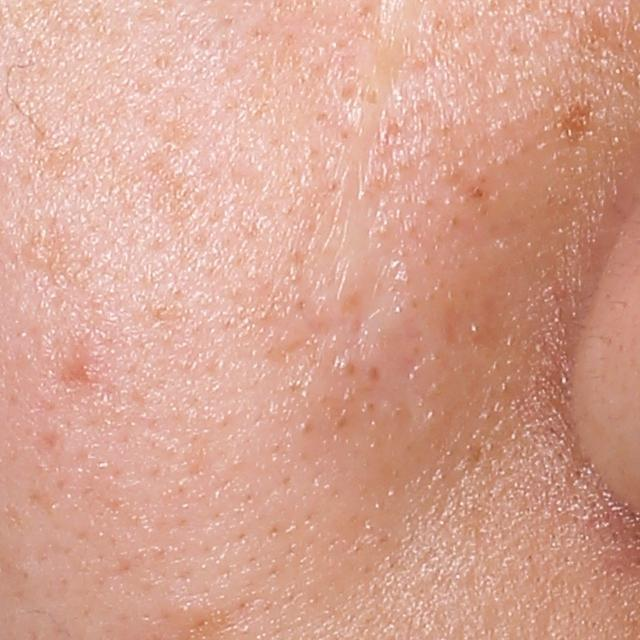melasma: (563, 100, 596, 151)
papule: (67, 355, 105, 386)
